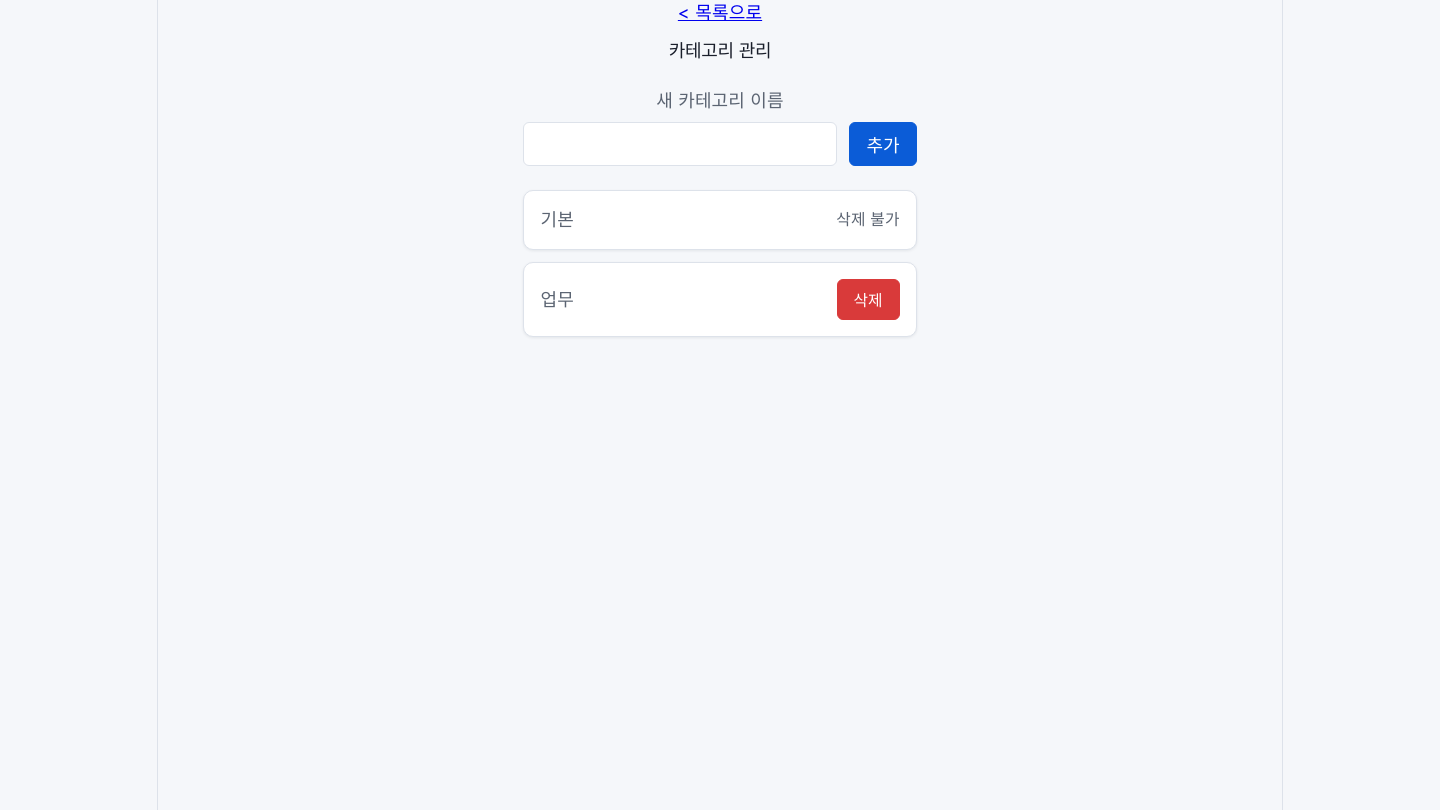
CategoryPage › 삭제 버튼 클릭 시 카테고리 이름을 포함한 확인 모달이 나타난다
The image size is (1440, 810).
Step 1. Click the button "삭제" → (868, 300), box [837, 279, 900, 320]
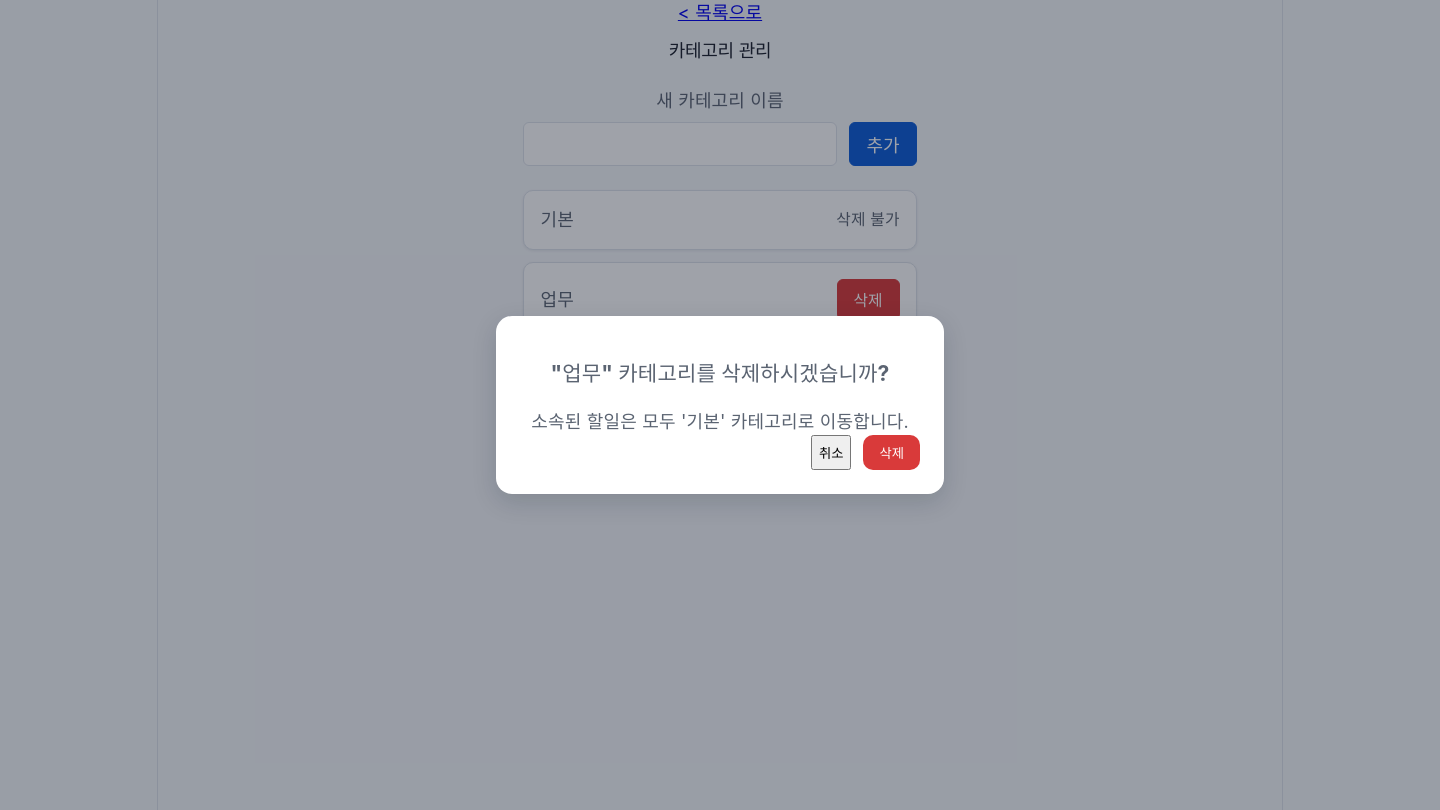
Result: the dialog is shown at [496, 316, 944, 494]
Result: the heading "\"업무\" 카테고리를 삭제하시겠습니까?" is shown at [550, 361, 890, 386]
